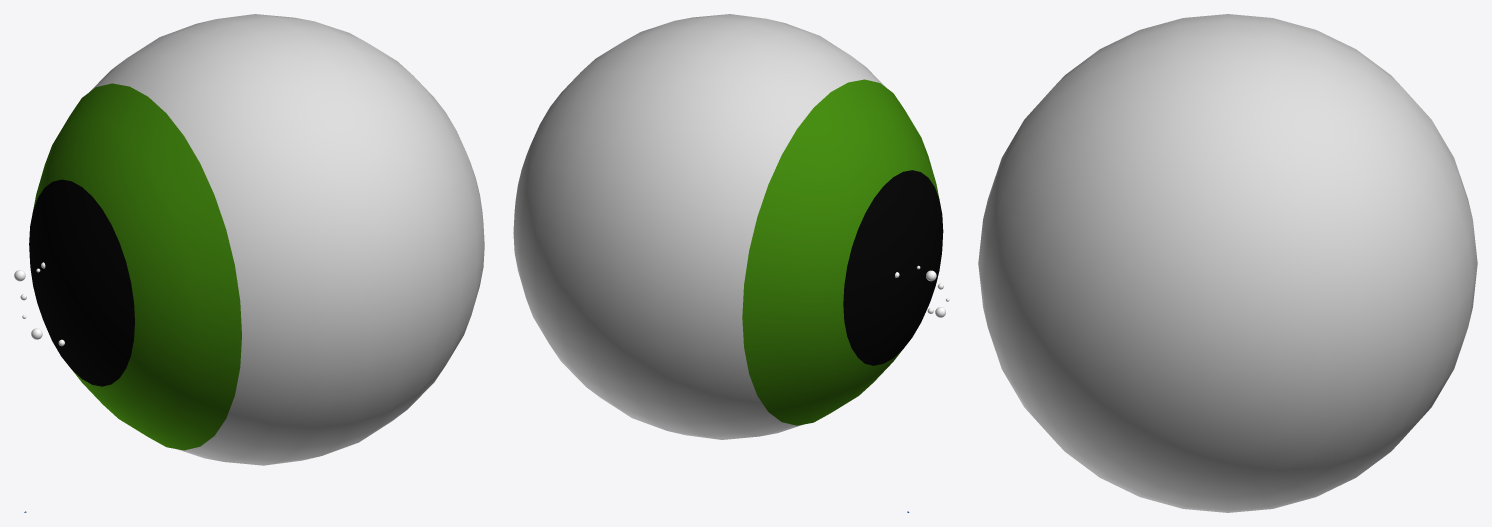
Rendered from Eye_Am_Sad_Adult.obj.
The picture shows the model from 3 angles, left to right: view 1: azimuth 30°, elevation 25°; view 2: azimuth 150°, elevation 25°; view 3: azimuth 270°, elevation 25°; orthographic projection. The views are drawn at different scales.
Parts seen in each view (by area): view 1: Eye; view 2: Eye; view 3: Eye.
Boxes of the visible parts, <box> form: Eye: <box>29,14,484,465</box>; Eye: <box>513,14,943,439</box>; Eye: <box>978,14,1477,512</box>.
Bounding box in the file's own units: 66.56 × 64.81 × 60.24.
